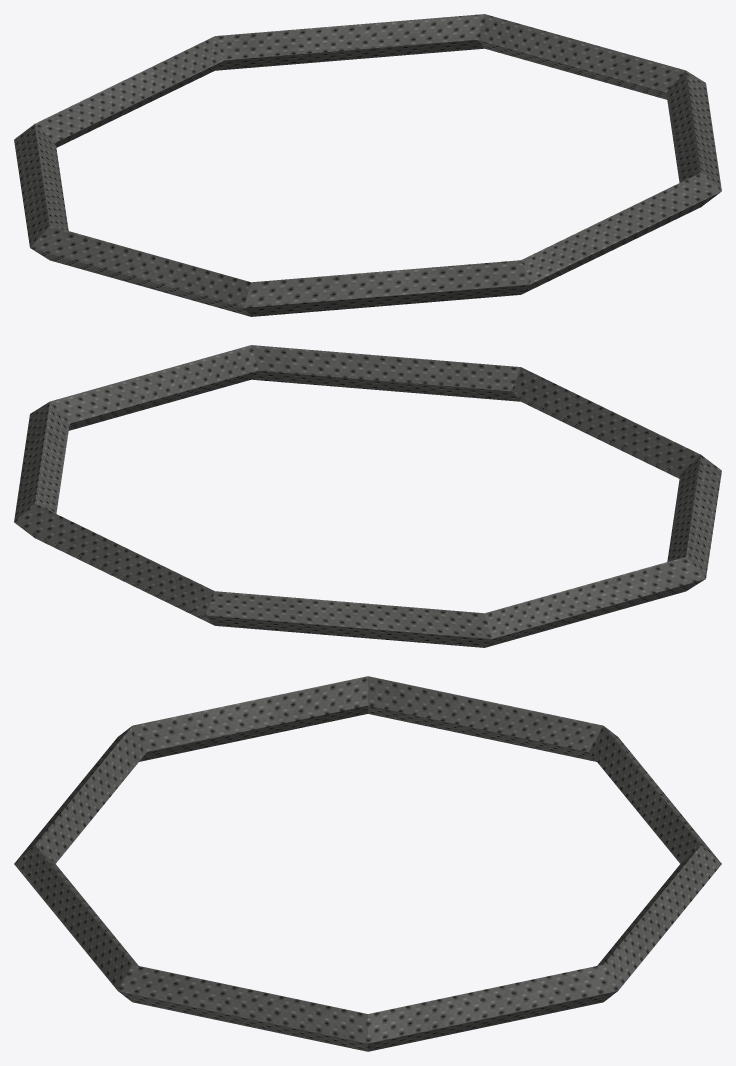
Rendered from checkpoint.obj.
3 views of the same model, one above another, from view 1: azimuth 30°, elevation 25°; view 2: azimuth 150°, elevation 25°; view 3: azimuth 270°, elevation 25° (orthographic). The views are drawn at different scales.
Parts seen in each view (by area): view 1: Torus; view 2: Torus; view 3: Torus.
Part boxes in pixels (x1,y1,x2,y2): Torus: [14, 14, 721, 316]; Torus: [14, 345, 721, 647]; Torus: [14, 676, 721, 1051].
Bounding box in the file's own units: 10.2 × 0.5 × 8.5.
